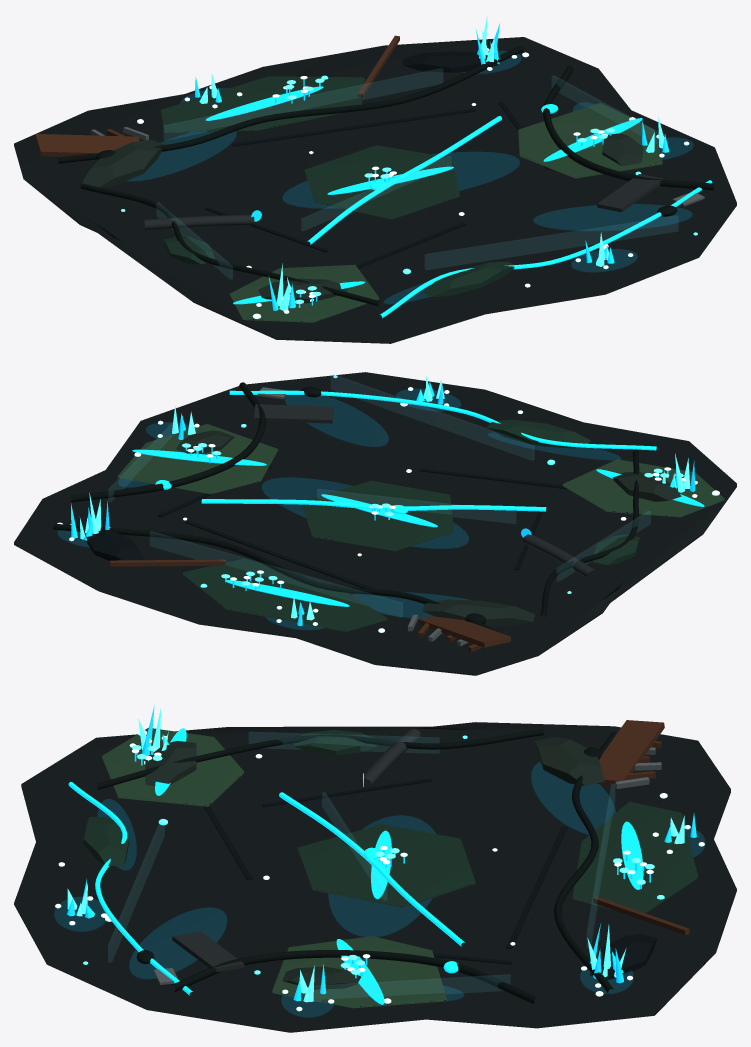
File: crystal-swamp.glb
The picture shows the model from 3 angles, top to bottom: view 1: azimuth 30°, elevation 25°; view 2: azimuth 150°, elevation 25°; view 3: azimuth 270°, elevation 25°; orthographic projection. The views are drawn at different scales.
Visible parts, largest first — view 1: SingleLowIrregularMarshFootprint, CenterLowGlowingVeinMat, SouthBlueSporeCarpet, EastCyanFungalSkin, NorthWestBiolumeCarpet, RearRightShallowWater, FrontBlackRootArc, CenterPaleReflectionPool, SouthWestRootedBank, FrontLeftShallowWater, HalfSunkenRustedHullPlate, LeftSinuousRoot (+15 smaller); view 2: SingleLowIrregularMarshFootprint, CenterLowGlowingVeinMat, SouthBlueSporeCarpet, EastCyanFungalSkin, NorthWestBiolumeCarpet, FrontBlackRootArc, RearRightShallowWater, CenterPaleReflectionPool, SouthWestRootedBank, RightBuriedPipeRoot, RearCrossingBlueTendril, NorthMossHump (+18 smaller); view 3: SingleLowIrregularMarshFootprint, CenterLowGlowingVeinMat, SouthBlueSporeCarpet, EastCyanFungalSkin, NorthWestBiolumeCarpet, CenterPaleReflectionPool, RearRightShallowWater, FrontLeftShallowWater, RightBuriedPipeRoot, LeftSinuousRoot, HalfSunkenRustedHullPlate, SouthWestRootedBank (+21 smaller).
Boxes of the visible parts, x1,y1,x2,y2 form: SingleLowIrregularMarshFootprint: (14,37,736,343); CenterLowGlowingVeinMat: (304,145,459,219); SouthBlueSporeCarpet: (161,76,364,132); EastCyanFungalSkin: (518,103,662,178); NorthWestBiolumeCarpet: (230,264,378,322); RearRightShallowWater: (533,204,692,230); FrontBlackRootArc: (57,46,523,163); CenterPaleReflectionPool: (282,151,519,208); SouthWestRootedBank: (82,139,164,187); FrontLeftShallowWater: (126,131,236,181); HalfSunkenRustedHullPlate: (35,134,139,156); LeftSinuousRoot: (80,183,379,306); SingleLowIrregularMarshFootprint: (14,372,736,675); CenterLowGlowingVeinMat: (302,480,453,551); SouthBlueSporeCarpet: (183,558,387,631); EastCyanFungalSkin: (117,423,277,494); NorthWestBiolumeCarpet: (563,459,724,517); FrontBlackRootArc: (53,523,504,634); RearRightShallowWater: (284,395,388,447); CenterPaleReflectionPool: (262,477,468,548); SouthWestRootedBank: (422,599,534,626); RightBuriedPipeRoot: (70,382,266,502); RearCrossingBlueTendril: (229,390,656,450); NorthMossHump: (487,419,590,448); SingleLowIrregularMarshFootprint: (14,722,736,1032); CenterLowGlowingVeinMat: (297,824,475,907); SouthBlueSporeCarpet: (572,801,697,913); EastCyanFungalSkin: (272,936,447,1008); NorthWestBiolumeCarpet: (102,727,243,806); CenterPaleReflectionPool: (328,815,435,937); RearRightShallowWater: (129,907,227,979); FrontLeftShallowWater: (531,762,615,834); RightBuriedPipeRoot: (171,950,537,1004); LeftSinuousRoot: (96,729,543,789); HalfSunkenRustedHullPlate: (593,720,664,785); SouthWestRootedBank: (534,737,604,785).
Size of the model in its own units: 9.74 by 0.9121 by 9.68.
